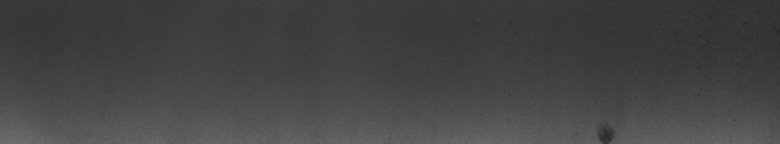fi: (592, 120, 615, 136)
